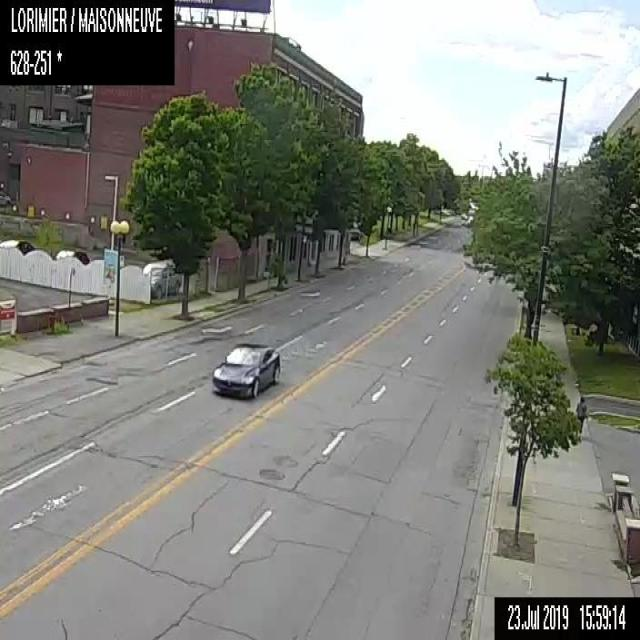pedestrian: (573, 393, 589, 443)
vehicle: (212, 343, 279, 397), (142, 258, 182, 297), (53, 248, 89, 264), (0, 240, 35, 256)
